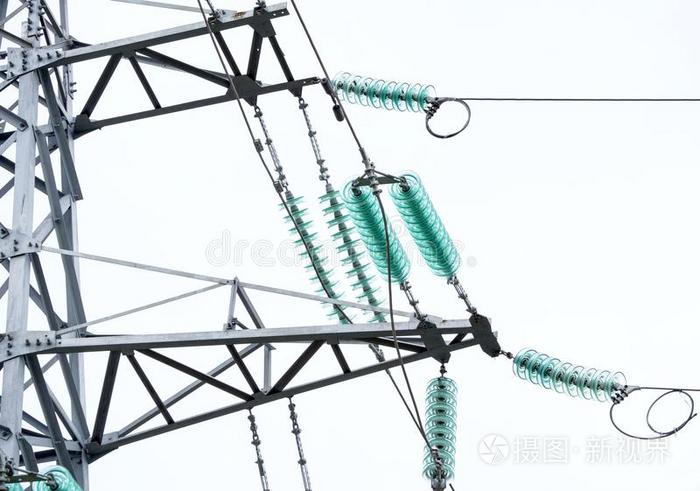insulator: (279, 192, 353, 324), (321, 183, 389, 324), (395, 168, 460, 278), (343, 181, 411, 282), (513, 349, 624, 402), (421, 376, 462, 481), (333, 71, 433, 114)
